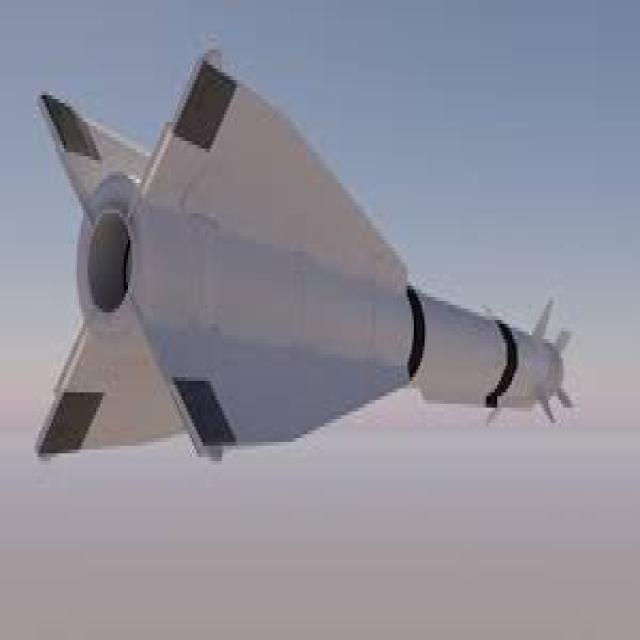missile: (32, 49, 574, 447)
